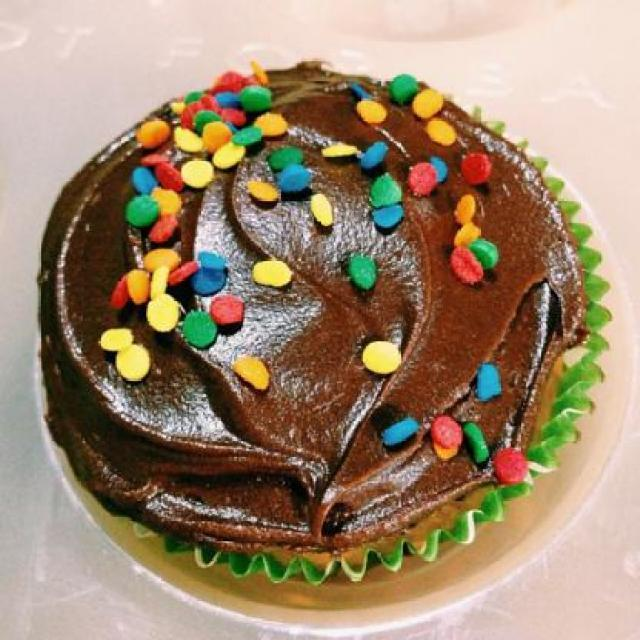Muffin: (39, 60, 613, 588)
